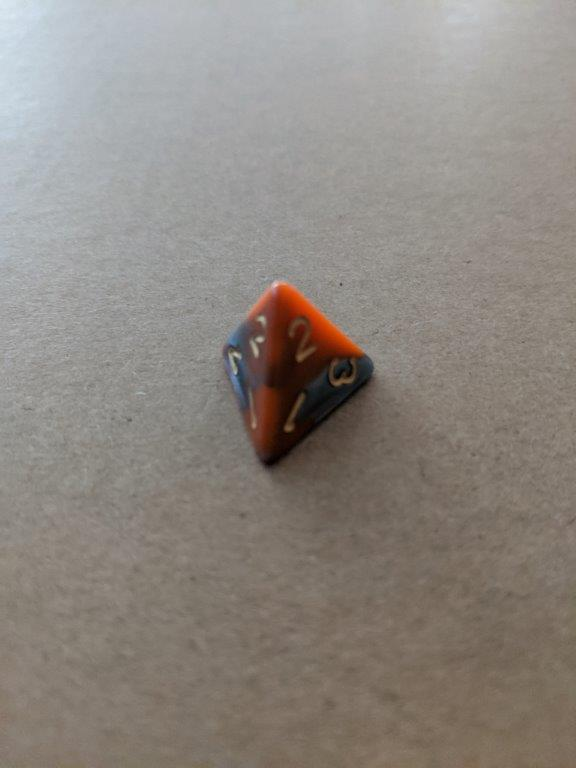d4-2: (216, 278, 375, 475)
